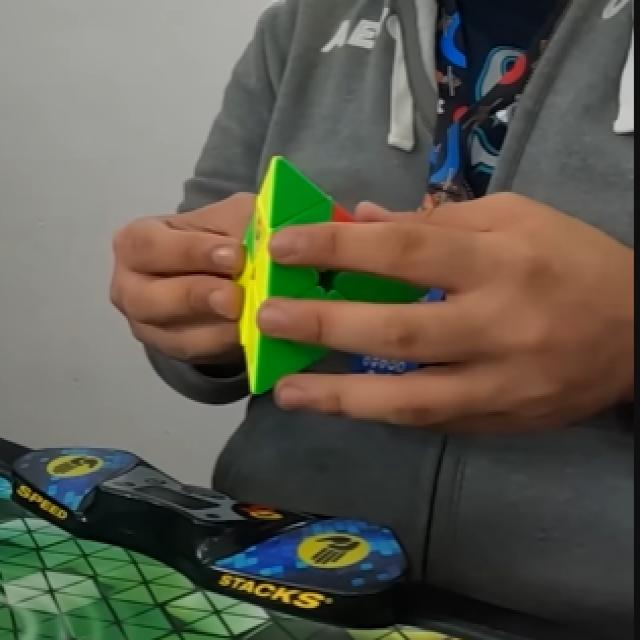Pyraminx: (240, 156, 425, 392)
